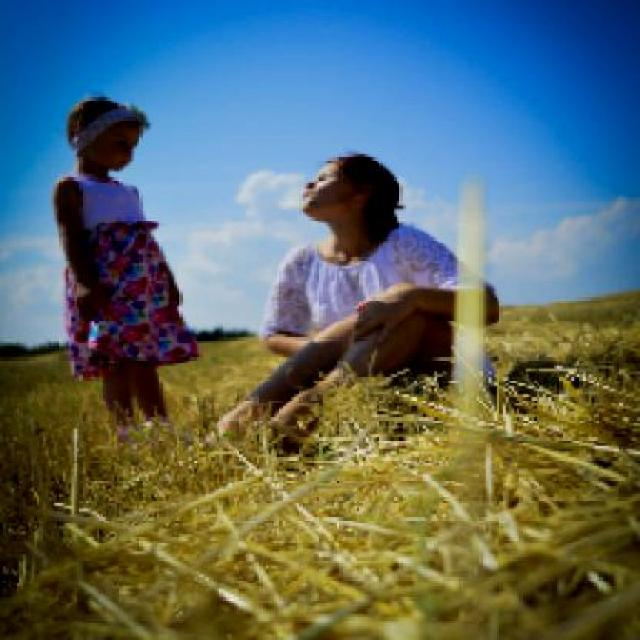child: (51, 94, 206, 452)
